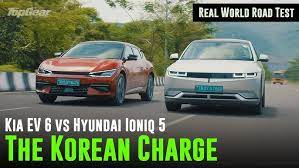Honda Ioniq: (162, 34, 271, 119), (33, 37, 155, 108)
